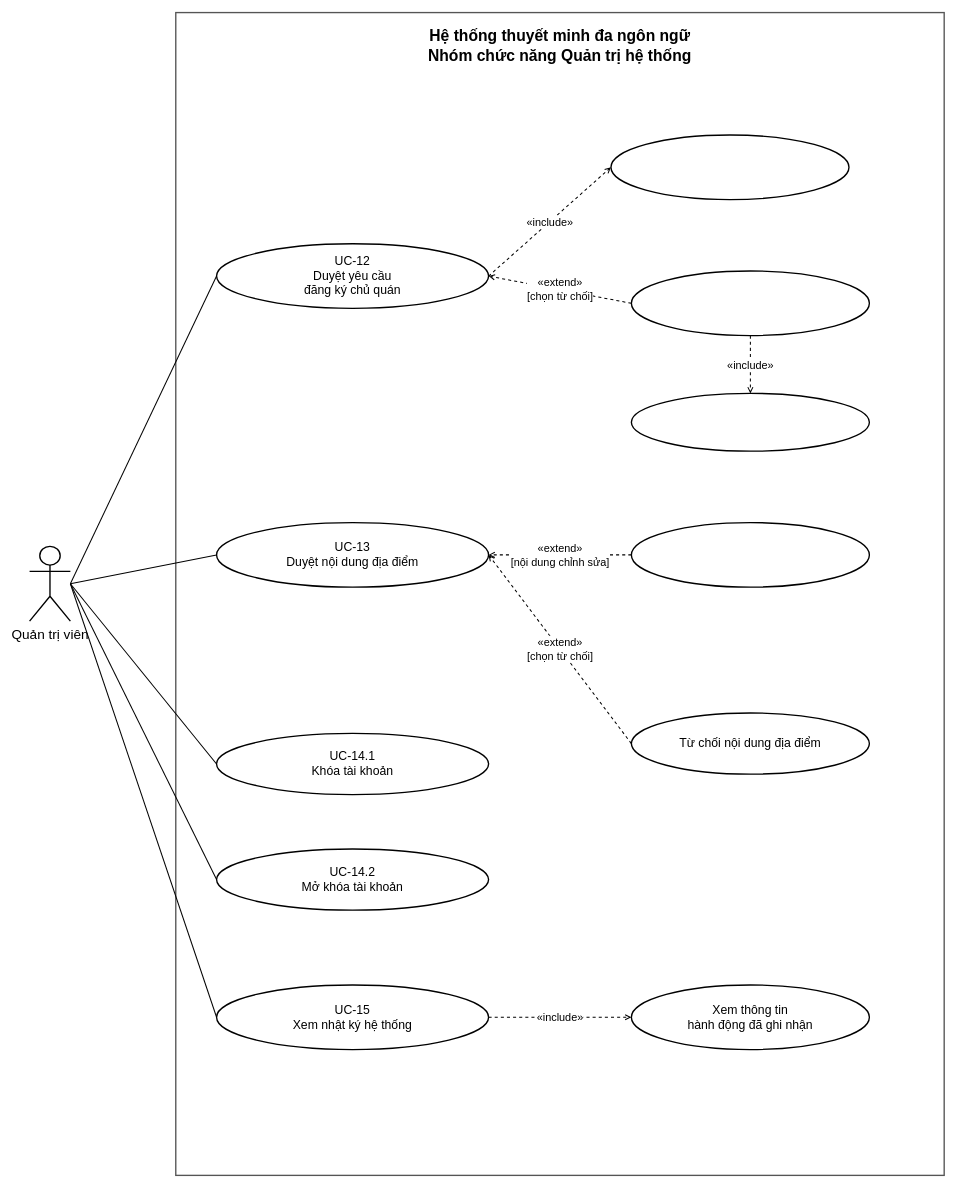
This 957x1187 diagram has some shape labels left out. The centre of each missing label's shape, as x and y in pixels:
"Nhập lý do từ chối" belongs at pixel 750 422.
"So sánh nội dung cũ và mới" belongs at pixel 750 555.
"Từ chối yêu cầu đăng ký chủ quán" belongs at pixel 750 303.
"Xem yêu cầu đang chờ và thông tin chủ quán" belongs at pixel 729 167.
